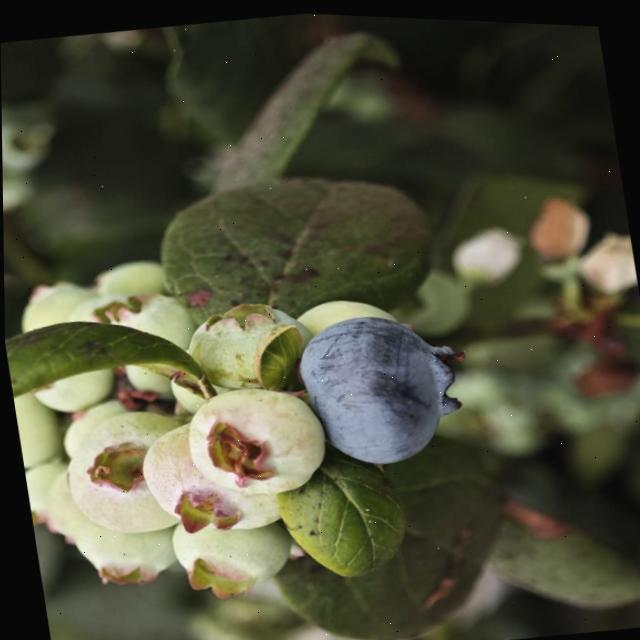RipeBlueBerry: (294, 300, 467, 476)
UnripeBlueBerry: (58, 400, 200, 546), (180, 375, 323, 501), (167, 506, 297, 601)
